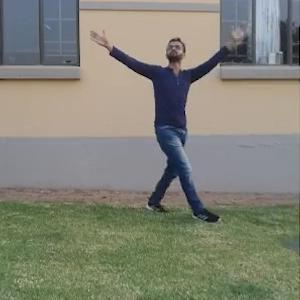takeoff: (95, 27, 247, 222)
